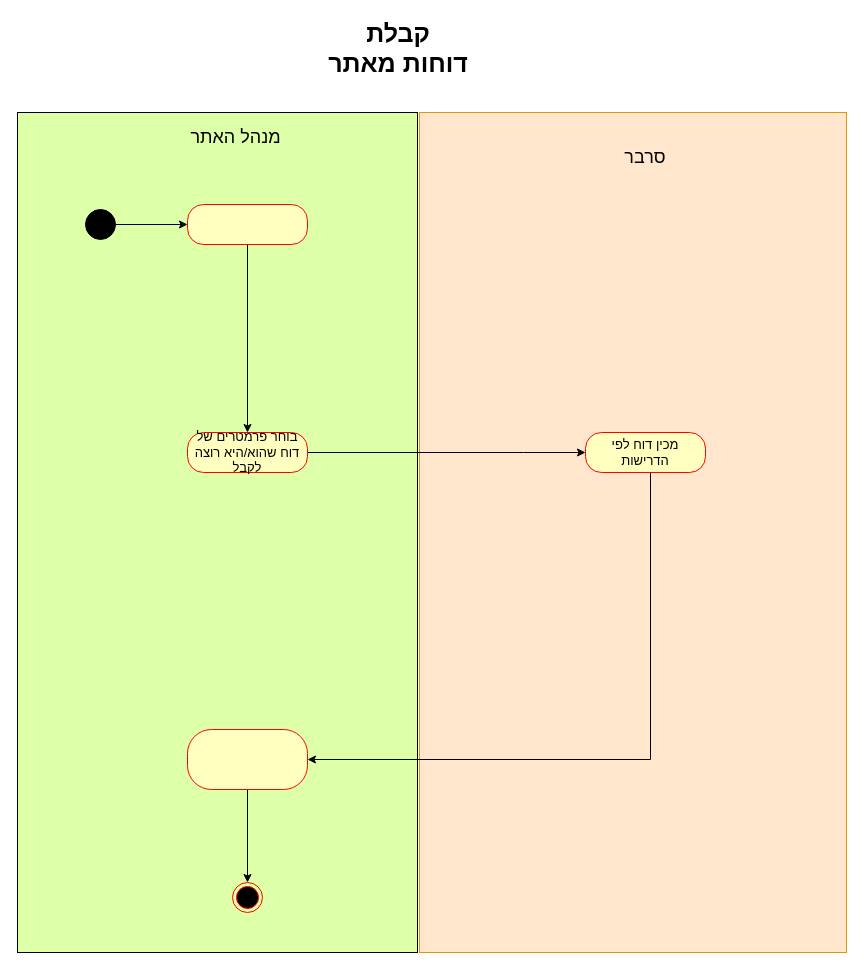
The diagram is 864 pixels wide and 970 high, and some of its shapes have lost their labels. Here are the shapes that lost their labels. From the top down, the box of each, then its label:
(186, 204, 308, 244): בוחר פעולה "דוחות"
(186, 728, 308, 790): מציג דוח לפי הדרישות של מנהל האתר
